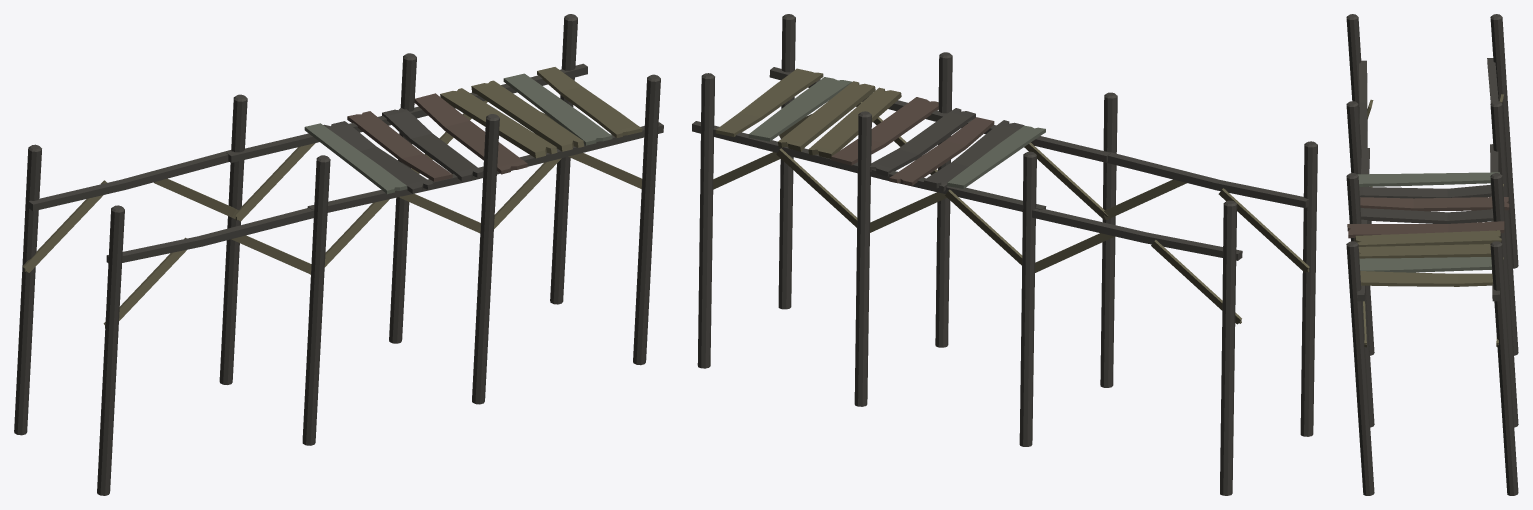
The model's file is bridge.fbx.
3 renders of one model, left to right at view 1: azimuth 30°, elevation 25°; view 2: azimuth 150°, elevation 25°; view 3: azimuth 270°, elevation 25°, orthographic. The views are drawn at different scales.
Visible parts, largest first — view 1: Pier.061; view 2: Pier.061; view 3: Pier.061.
Boxes of the visible parts, x1,y1,x2,y2 form: Pier.061: (14,14,663,495); Pier.061: (692,14,1317,495); Pier.061: (1346,14,1518,495).
Bounding box in the file's own units: 74.15 × 36.73 × 22.62.
